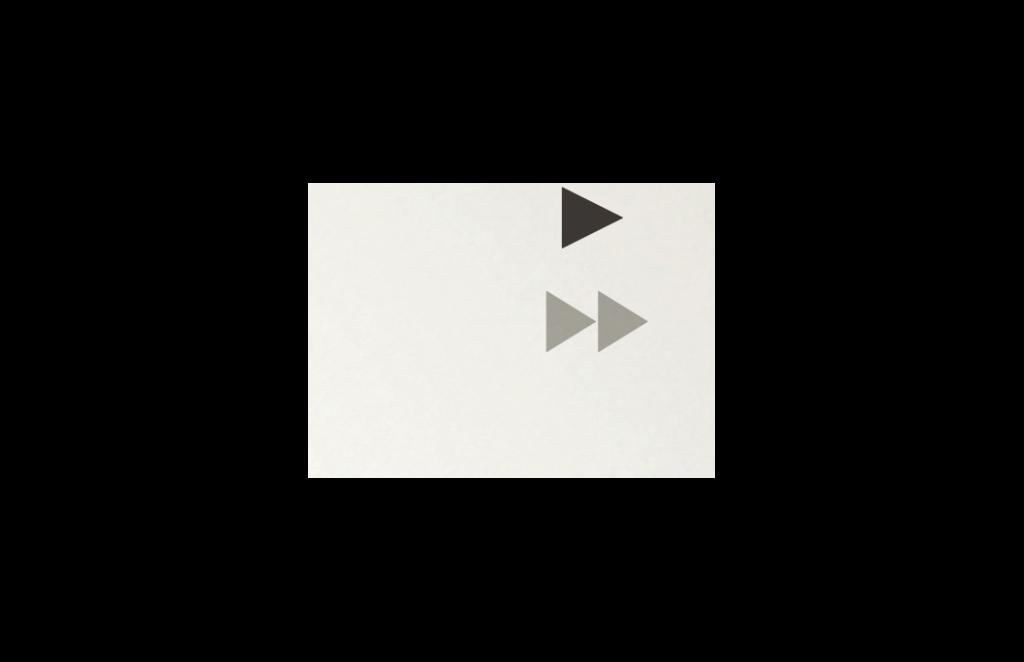fast_forward: (542, 276, 654, 374)
play: (538, 184, 646, 266)
